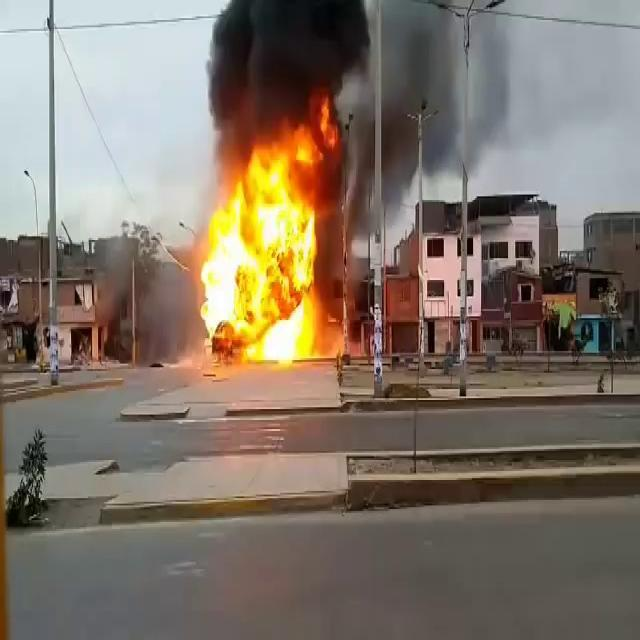Fire: (192, 124, 337, 368)
Smoke: (199, 0, 530, 204)
